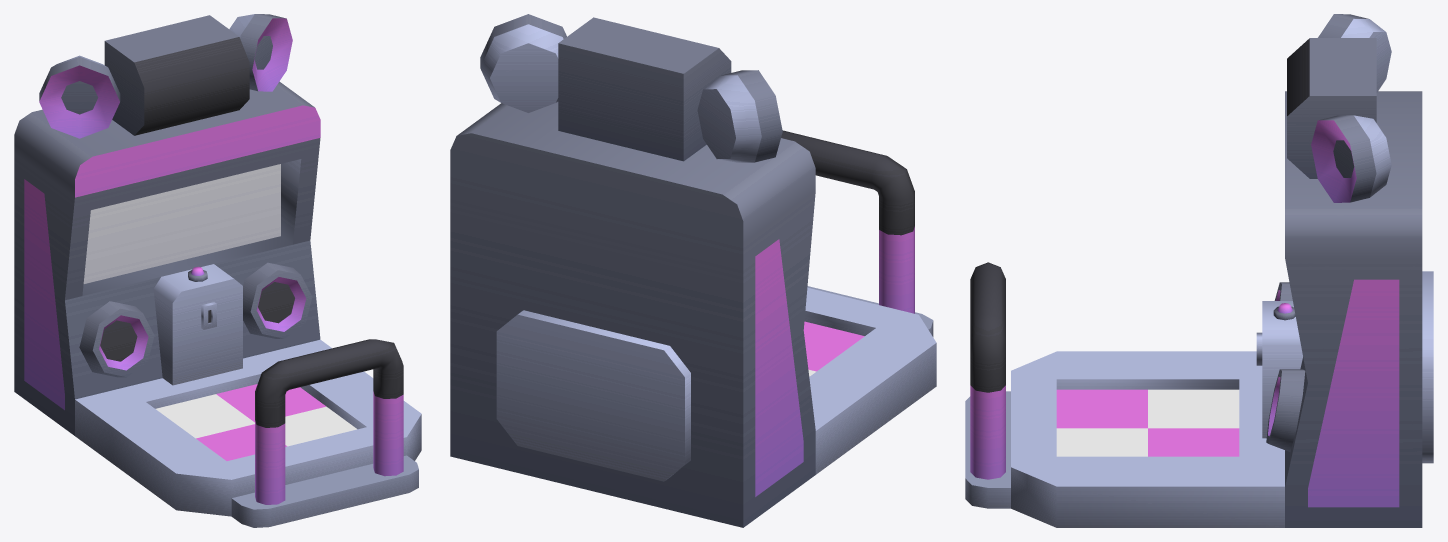
File: dance-machine.glb
The picture shows the model from 3 angles, left to right: view 1: azimuth 30°, elevation 25°; view 2: azimuth 150°, elevation 25°; view 3: azimuth 270°, elevation 25°; orthographic projection. The views are drawn at different scales.
Visible parts, largest first — view 1: dance-machine; view 2: dance-machine, Group; view 3: dance-machine, Group.
Boxes of the visible parts, <box> form: dance-machine: <box>14,14,421,527</box>; dance-machine: <box>450,14,936,527</box>; Group: <box>496,310,690,481</box>; dance-machine: <box>965,14,1422,527</box>; Group: <box>1422,271,1433,463</box>.
Size of the model in its own units: 0.7232 by 0.9499 by 1.02.
Materials: 1 (1 with a texture image).
